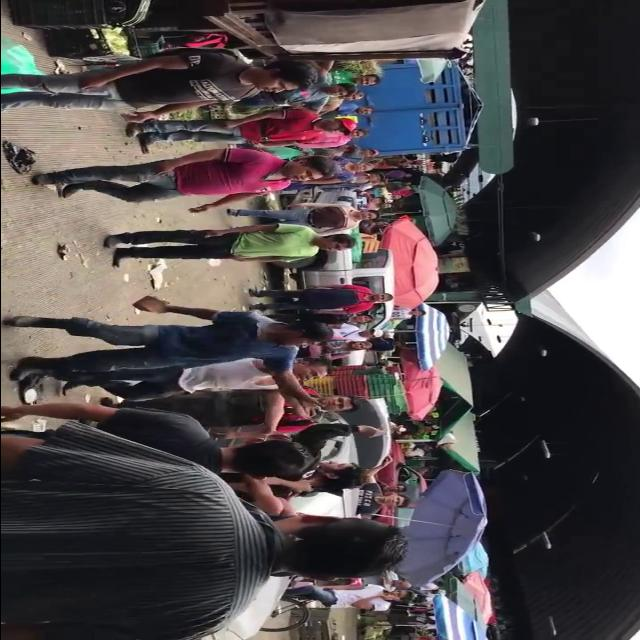Violence: (56, 301, 392, 489)
